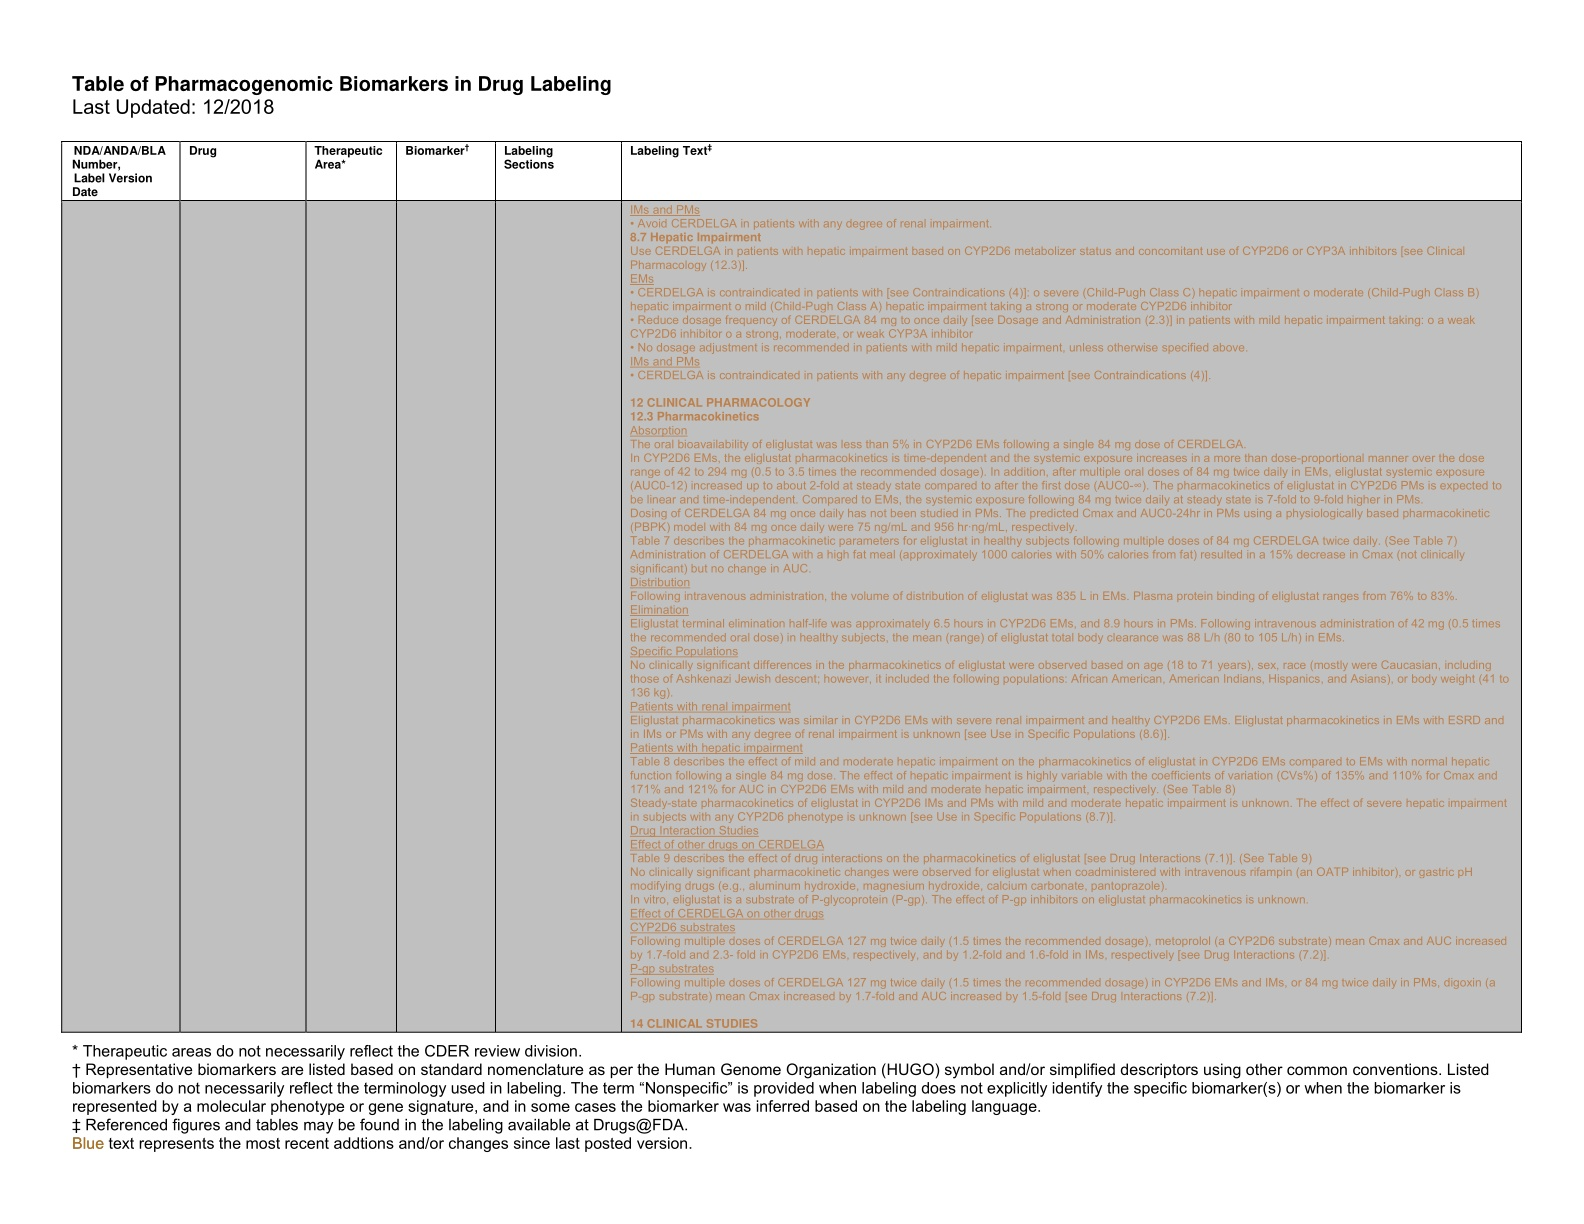full_lined: (60, 141, 1522, 1034)
